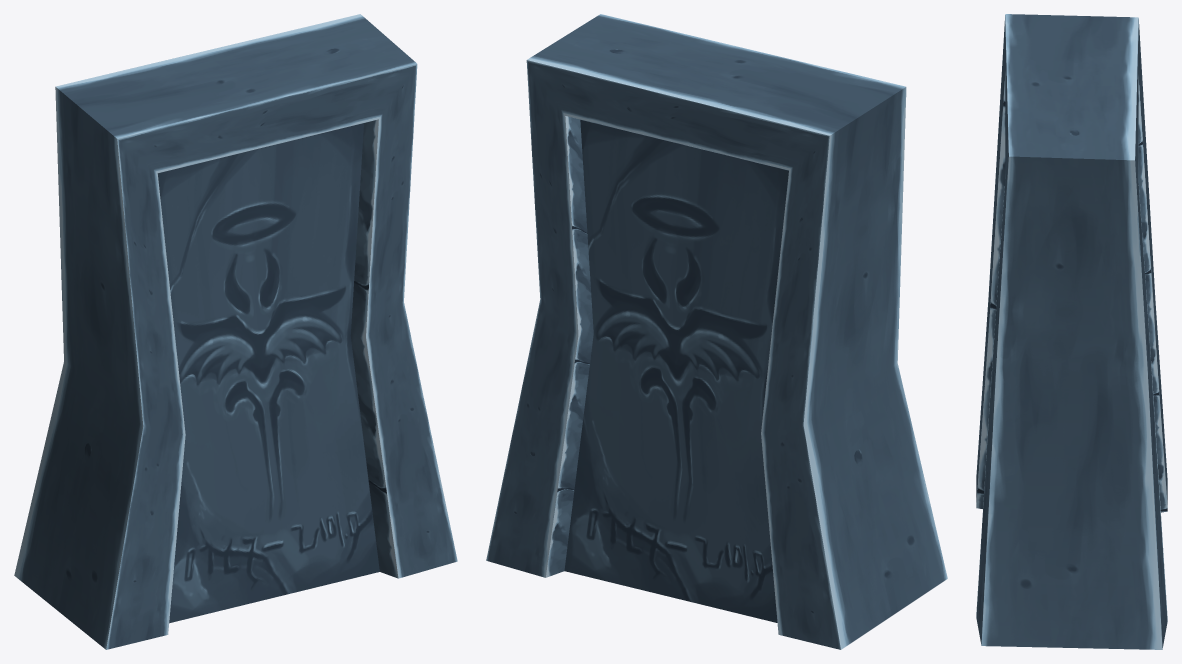
The model's file is SM_PROP_gravestone_v05_03.fbx.
The picture shows the model from 3 angles, left to right: view 1: azimuth 30°, elevation 25°; view 2: azimuth 150°, elevation 25°; view 3: azimuth 270°, elevation 25°; orthographic projection. The views are drawn at different scales.
Parts seen in each view (by area): view 1: SM_PROP_gravestone_v05_03; view 2: SM_PROP_gravestone_v05_03; view 3: SM_PROP_gravestone_v05_03.
Boxes of the visible parts, bbox=[...] form: SM_PROP_gravestone_v05_03: bbox=[14, 14, 457, 649]; SM_PROP_gravestone_v05_03: bbox=[486, 14, 947, 649]; SM_PROP_gravestone_v05_03: bbox=[976, 14, 1167, 649].
Bounding box in the file's own units: 83.33 × 108 × 39.45.
